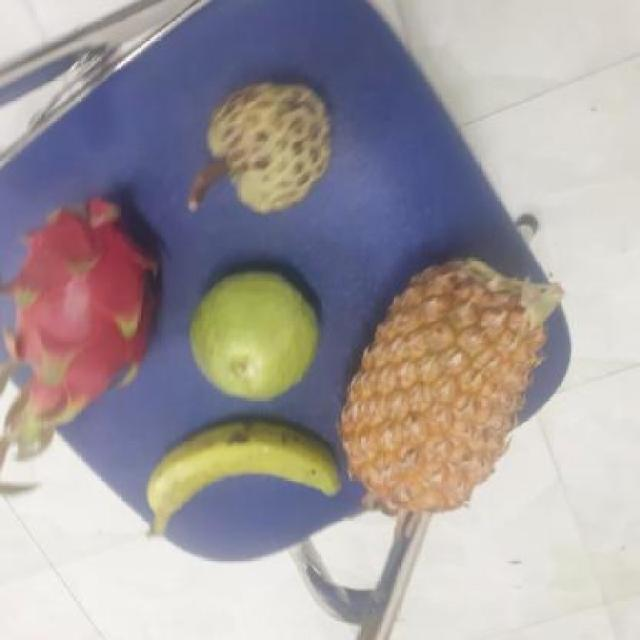dragon fruit: (0, 194, 169, 432)
guava: (188, 268, 328, 398)
pineapple: (348, 252, 557, 503)
sugar apple: (203, 82, 340, 210)
